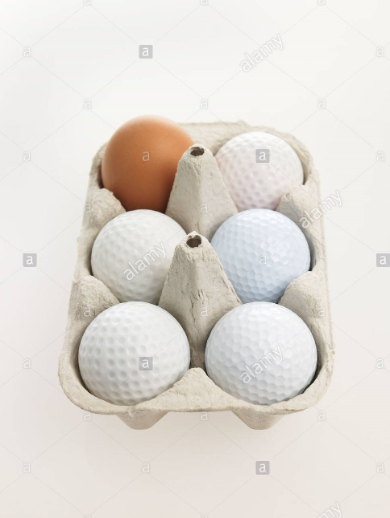ball: (72, 292, 201, 412), (200, 292, 323, 417), (201, 204, 321, 321), (85, 203, 197, 322), (211, 122, 308, 225)
egg: (95, 109, 203, 217)
